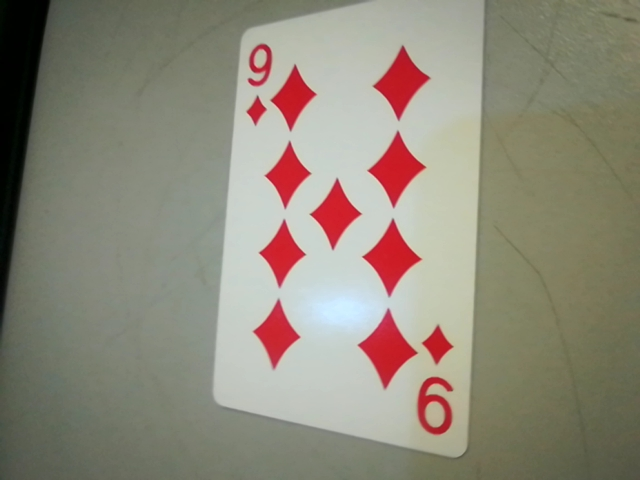fk 9: (406, 319, 467, 448), (229, 34, 282, 133)
